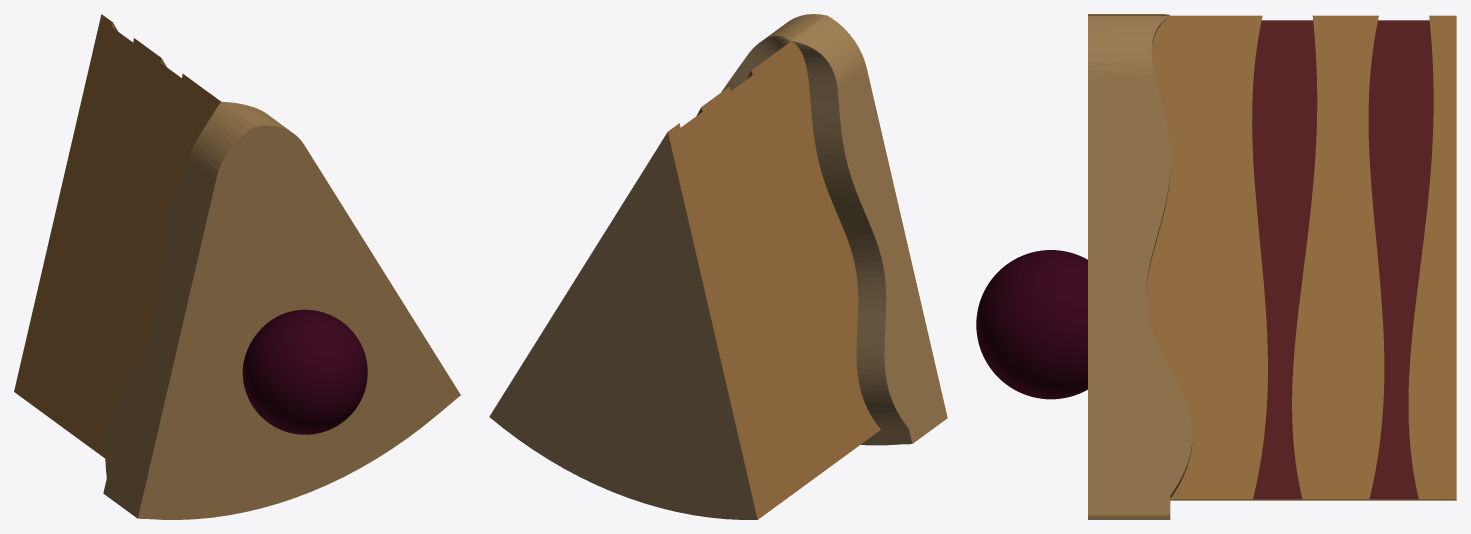
Rendered from kake.glb.
The picture shows the model from 3 angles, left to right: view 1: azimuth 30°, elevation 25°; view 2: azimuth 150°, elevation 25°; view 3: azimuth 270°, elevation 25°; orthographic projection. The views are drawn at different scales.
Visible parts, largest first — view 1: Kake2.0.stl, Tært.stl; view 2: Kake2.0.stl; view 3: Kake2.0.stl, sidepanel_nede.stl, sidepanel_oppe.stl, Tært.stl.
Part boxes in pixels (left/top/right/bottom): Kake2.0.stl: left=14, top=14, right=460, bottom=519; Tært.stl: left=242, top=309, right=367, bottom=434; Kake2.0.stl: left=489, top=14, right=947, bottom=519; Kake2.0.stl: left=1088, top=14, right=1456, bottom=519; sidepanel_nede.stl: left=1368, top=20, right=1433, bottom=499; sidepanel_oppe.stl: left=1252, top=20, right=1317, bottom=499; Tært.stl: left=976, top=250, right=1087, bottom=399.
Size of the model in its own units: 2.3 by 2.6 by 2.48.
